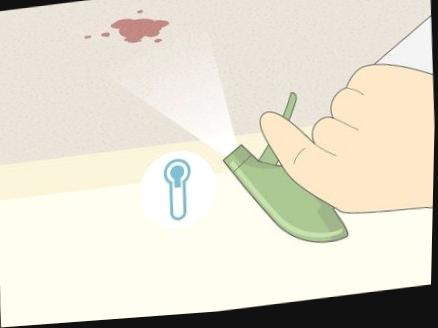Fire: (109, 21, 170, 46)
